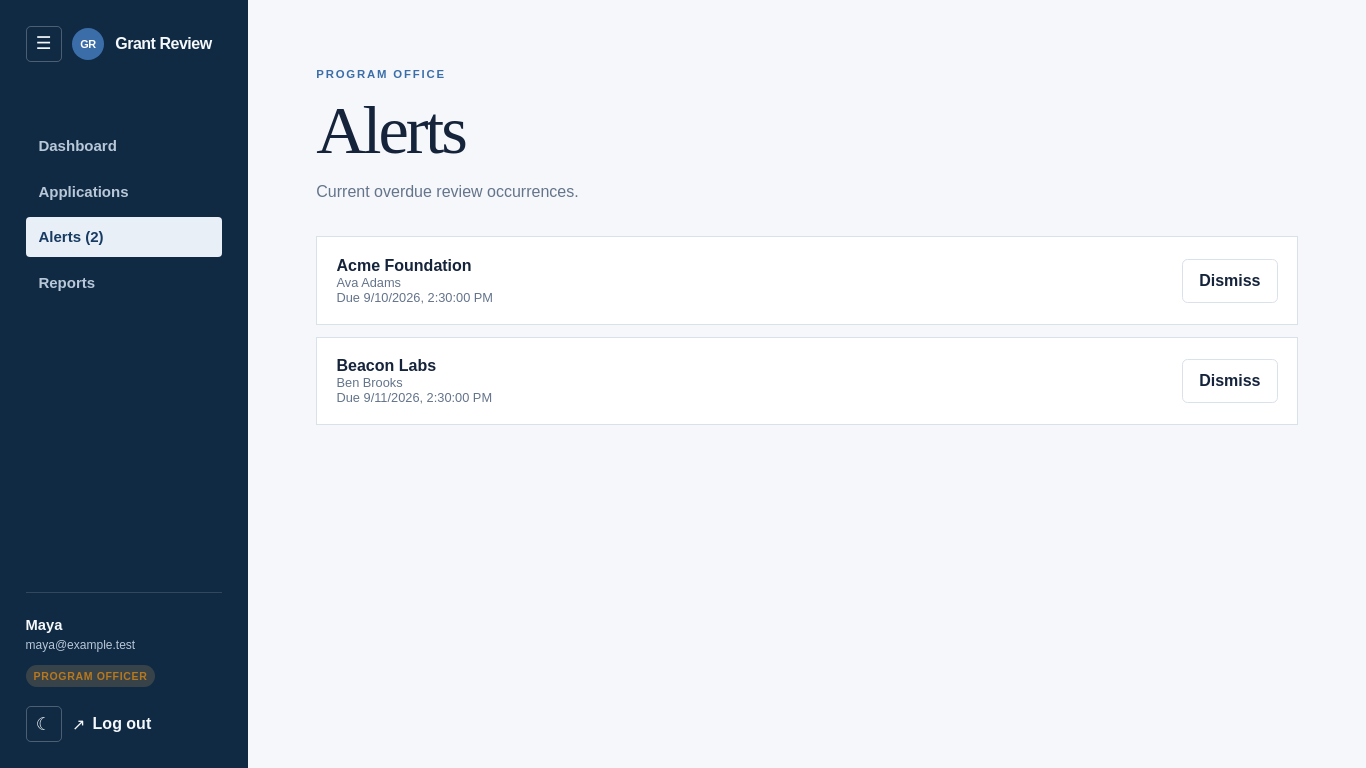
Test: AlertsPage and ProgramShell › dismisses once while pending, removes the alert, and refreshes the badge from two to one
The image size is (1366, 768).
Expected: the link "Alerts (2)" is shown, x1=26 y1=217 x2=222 y2=257
Click the button "Dismiss" in the row of "9/10/2026, 2:30:00 PM".
click(1230, 281)  # box x1=1182 y1=259 x2=1278 y2=303
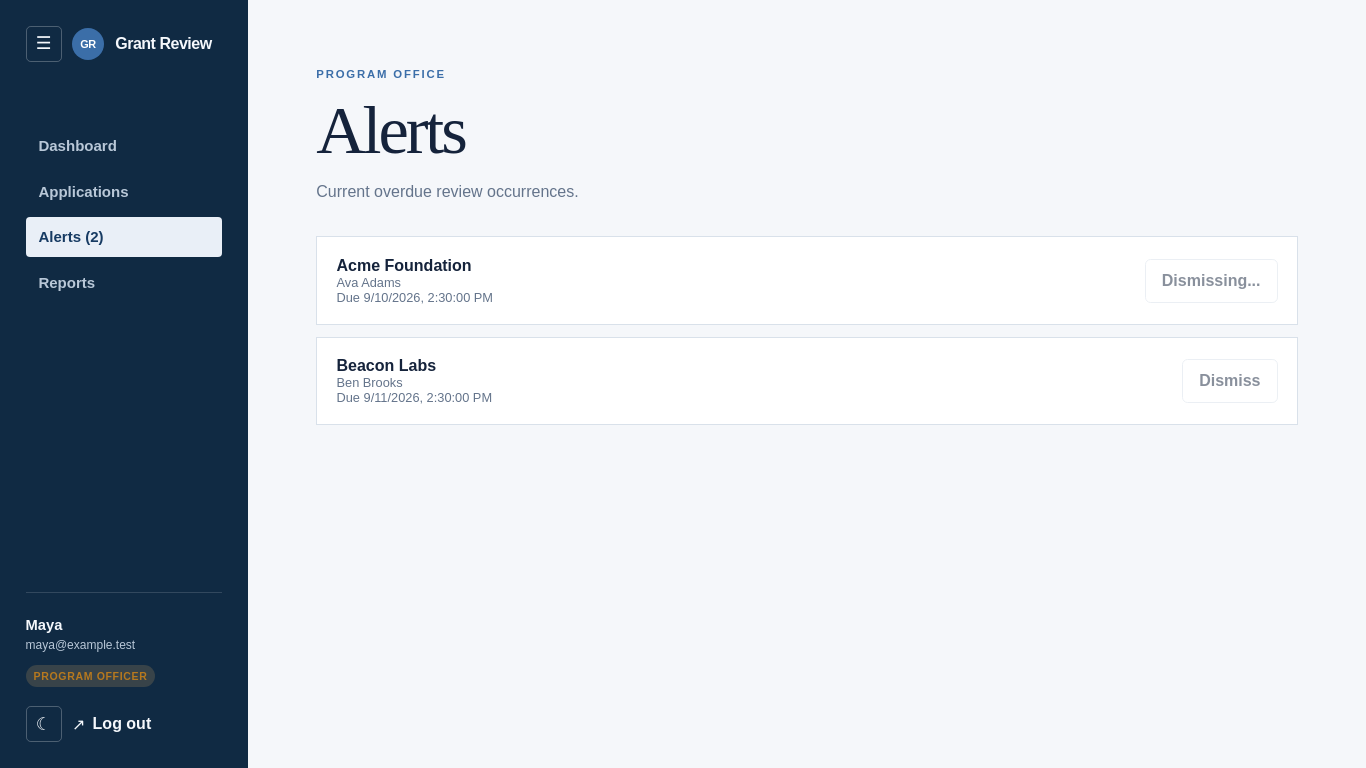
Expected: the button "Dismissing..." is disabled
Click the button "Dismissing...".
click(1211, 281)  # box x1=1145 y1=259 x2=1278 y2=303
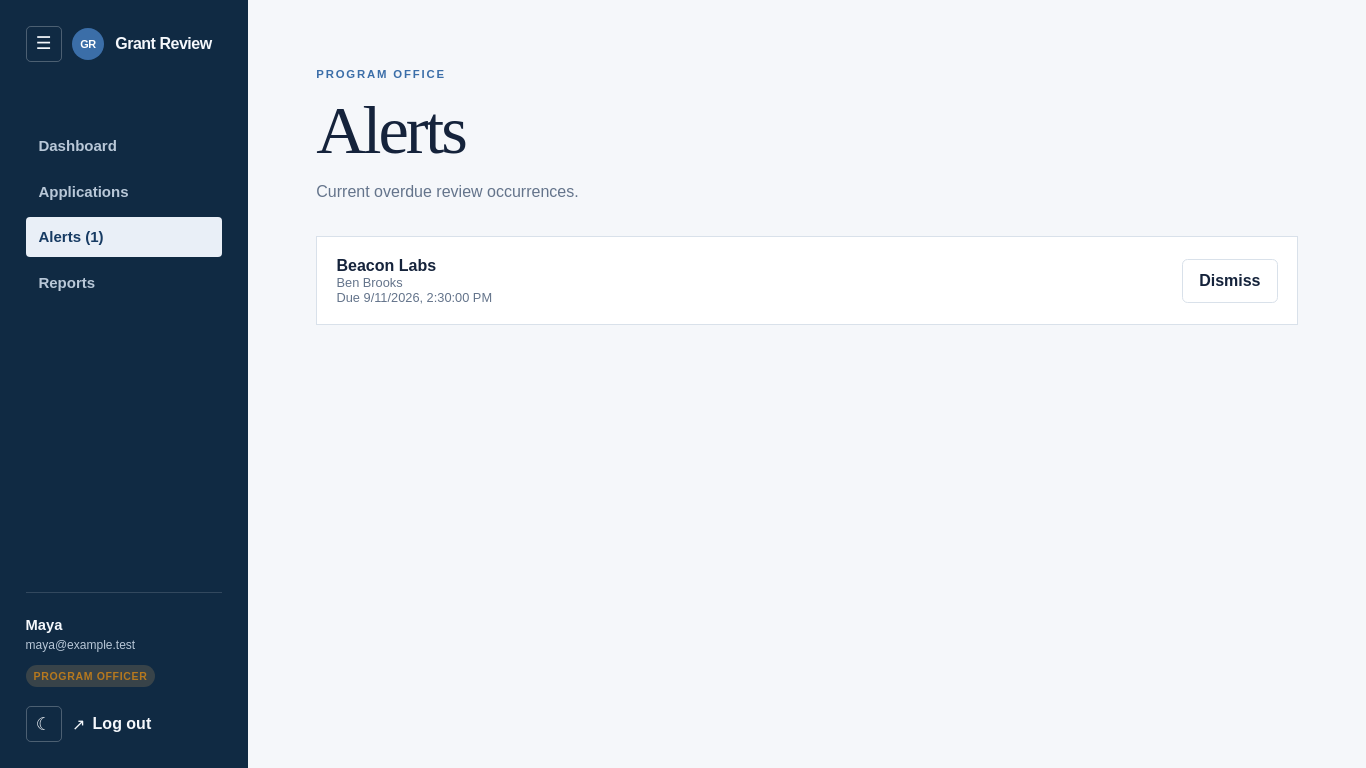
Expected: the text "Beacon Labs" is shown, x1=336 y1=257 x2=436 y2=274
Expected: the text "Acme Foundation" is gone
Expected: the link "Alerts (1)" is shown, x1=26 y1=217 x2=222 y2=257
